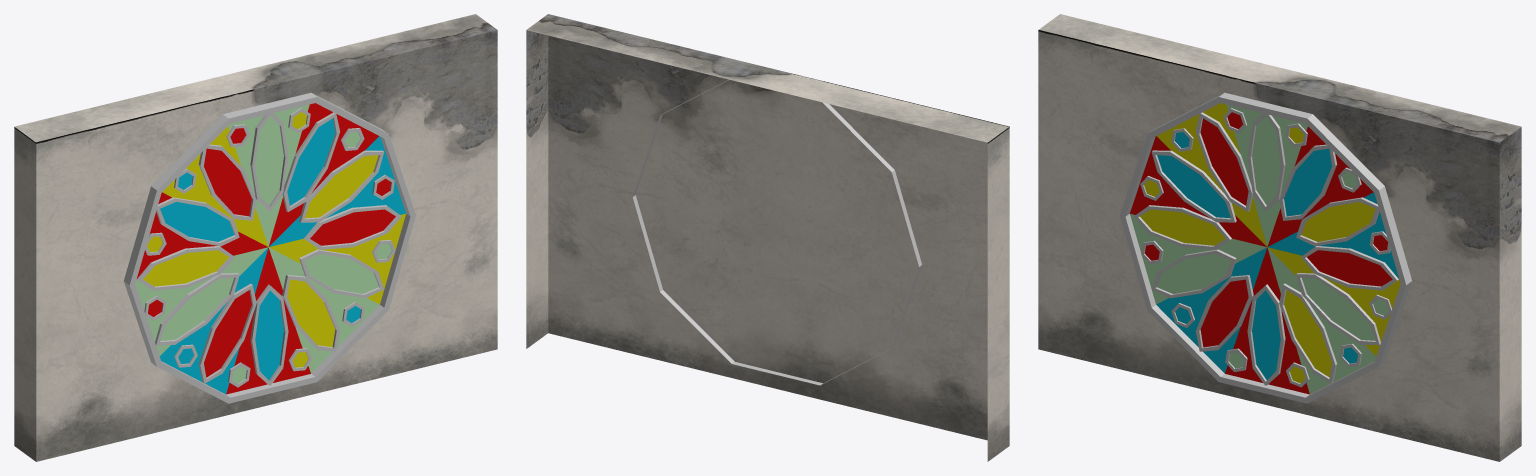
The model's file is motherRoom_wall_BIG_OLD01.fbx.
3 renders of one model, left to right at view 1: azimuth 30°, elevation 25°; view 2: azimuth 150°, elevation 25°; view 3: azimuth 330°, elevation 25°, orthographic.
Visible parts, largest first — view 1: motherWall_BIG; view 2: motherWall_BIG; view 3: motherWall_BIG.
Part boxes in pixels (<box>): motherWall_BIG: <box>14,14,497,461</box>; motherWall_BIG: <box>526,14,1009,461</box>; motherWall_BIG: <box>1038,14,1521,461</box>.
Bounding box in the file's own units: 605 × 400 × 63.44.
